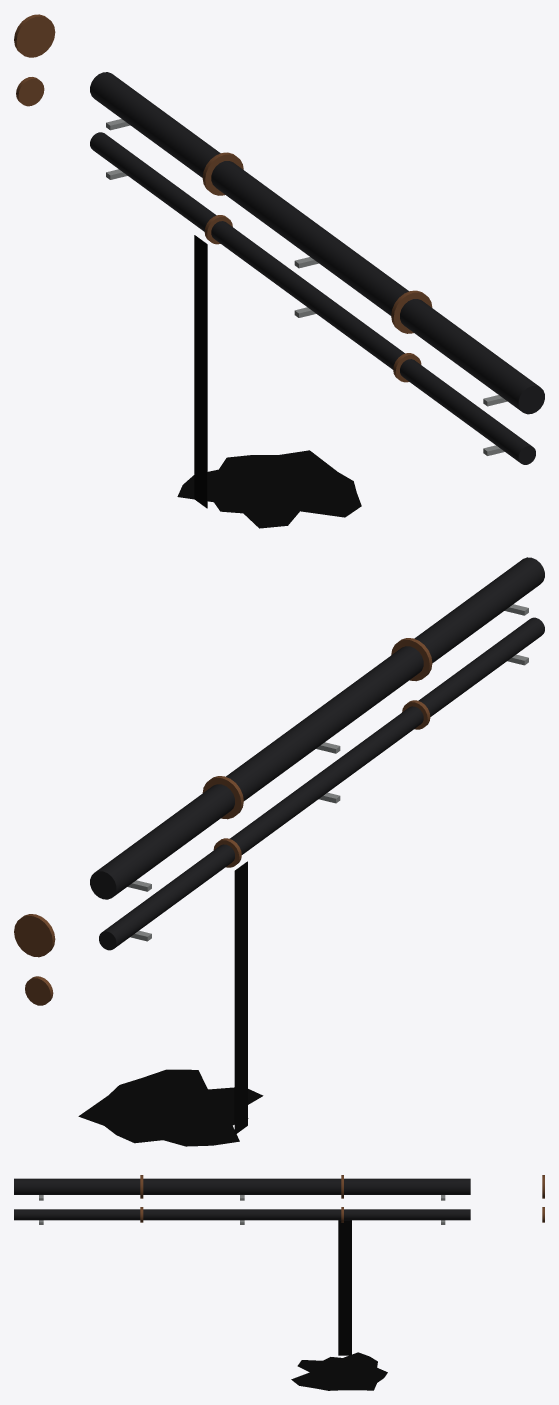
The model's file is pipe_black.glb.
3 views of the same model, one above another, from view 1: azimuth 30°, elevation 25°; view 2: azimuth 150°, elevation 25°; view 3: azimuth 270°, elevation 25° (orthographic). The views are drawn at different scales.
Parts seen in each view (by area): view 1: rohr0, rohr1, lache, lauf, muffe02, muffe12, muffe01, muffe00; view 2: rohr0, rohr1, lache, lauf, muffe02; view 3: rohr0, rohr1, lache, lauf.
Part boxes in pixels (box(x1,y1,x2,y2)): rohr0: box(90, 72, 544, 414); rohr1: box(90, 132, 535, 464); lache: box(177, 450, 361, 528); lauf: box(194, 235, 207, 508); muffe02: box(14, 14, 55, 57); muffe12: box(16, 77, 44, 106); muffe01: box(202, 152, 243, 195); muffe00: box(391, 290, 432, 333); rohr0: box(90, 557, 544, 899); rohr1: box(99, 617, 544, 950); lache: box(78, 1069, 263, 1146); lauf: box(234, 861, 247, 1134); muffe02: box(14, 914, 55, 957); rohr0: box(14, 1178, 470, 1194); rohr1: box(14, 1209, 470, 1220); lache: box(291, 1352, 387, 1390); lauf: box(338, 1220, 351, 1355).
Size of the model in its own units: 1 by 2.23 by 5.82.
